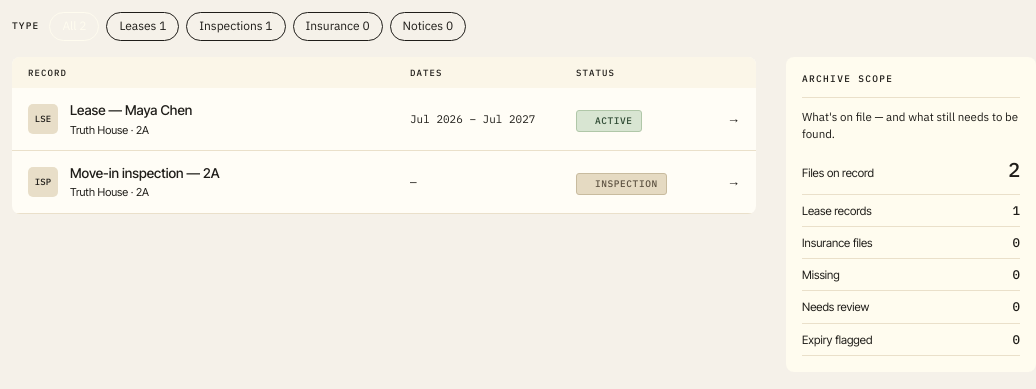
it: DocumentsFilterList states › distinguishes an empty filter from an empty ledger
The width and height of the screenshot is (1036, 389).
Step 1. Click the button with test id "filter-btn-insurance" → point(338, 26), box [292, 12, 382, 41]
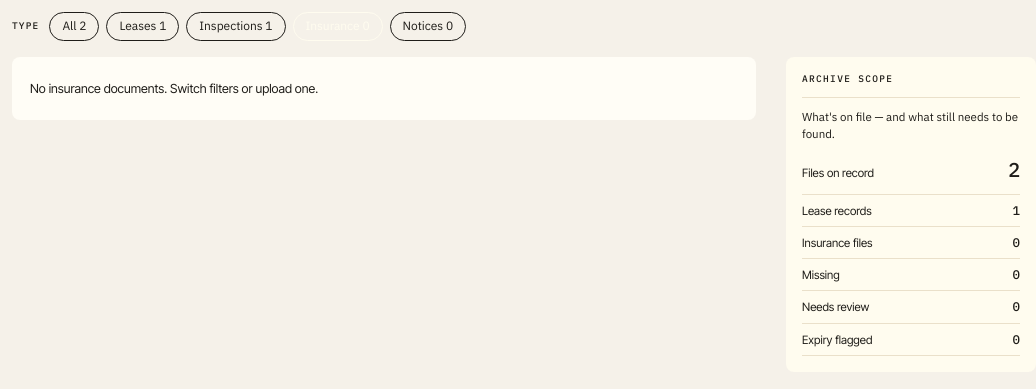
Expected: the text "No insurance documents. Switch filters or upload one." is shown, [30, 81, 318, 96]
